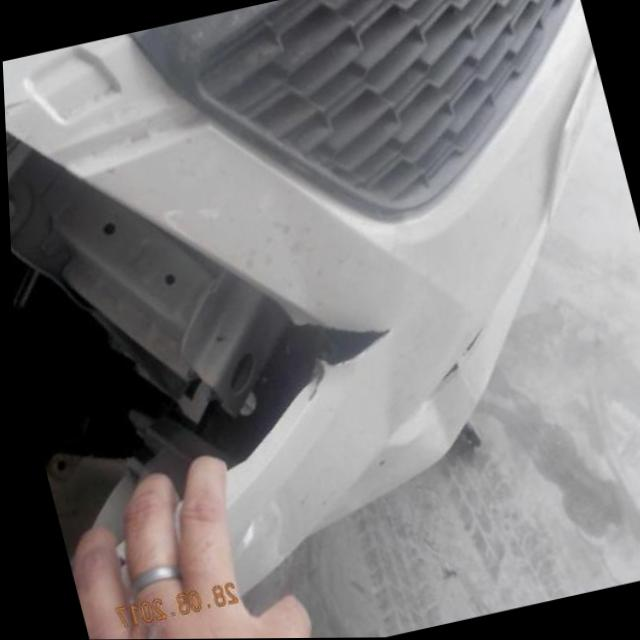Car-Damage: (277, 280, 399, 400)
